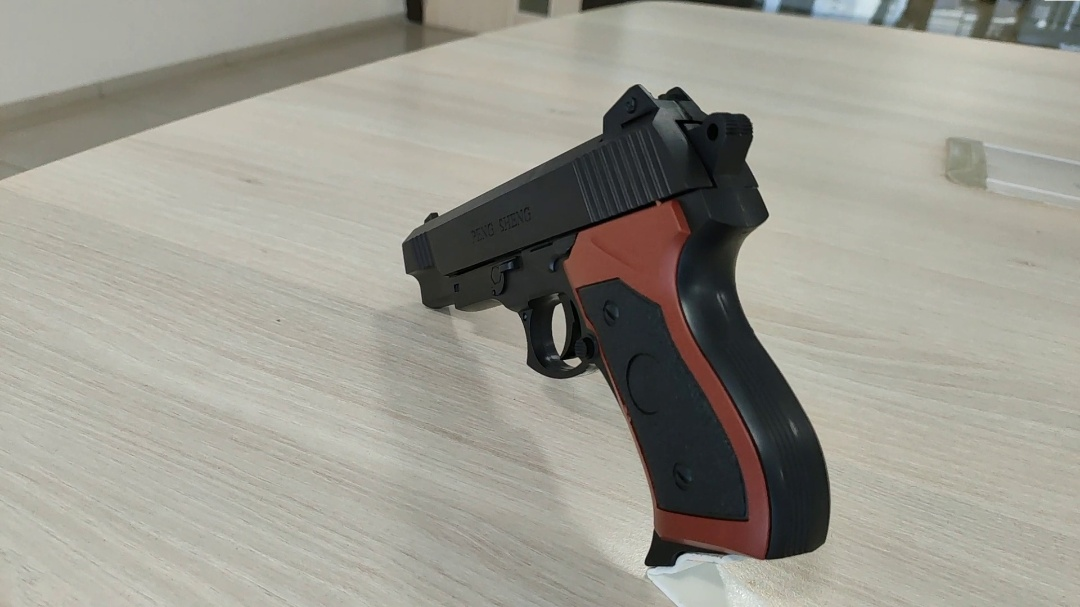gun: (588, 237, 637, 322)
